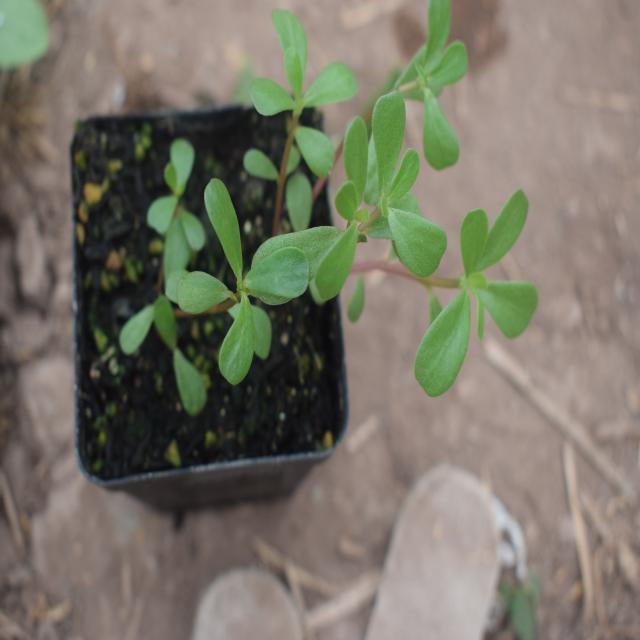purslane: (118, 35, 543, 385)
